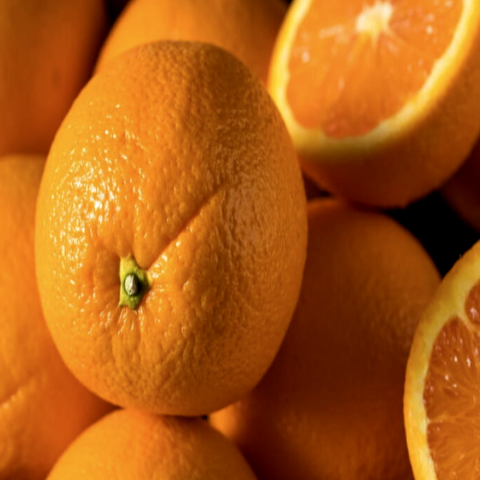orange: (2, 13, 320, 436)
